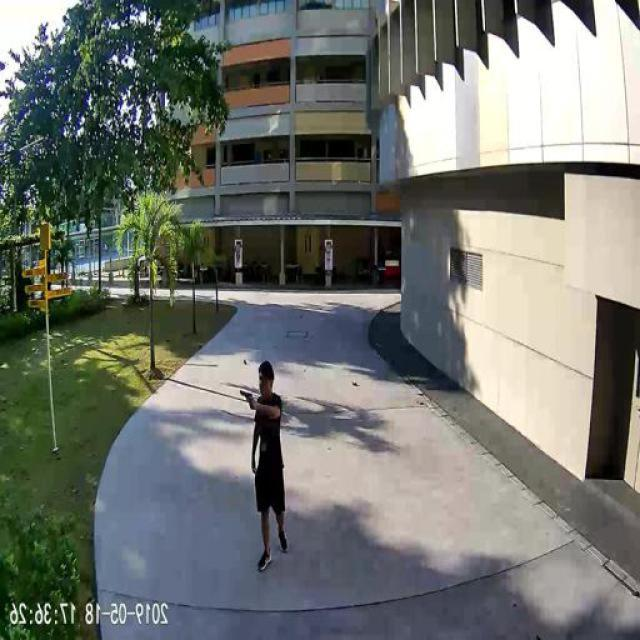weapon: (238, 390, 258, 409)
